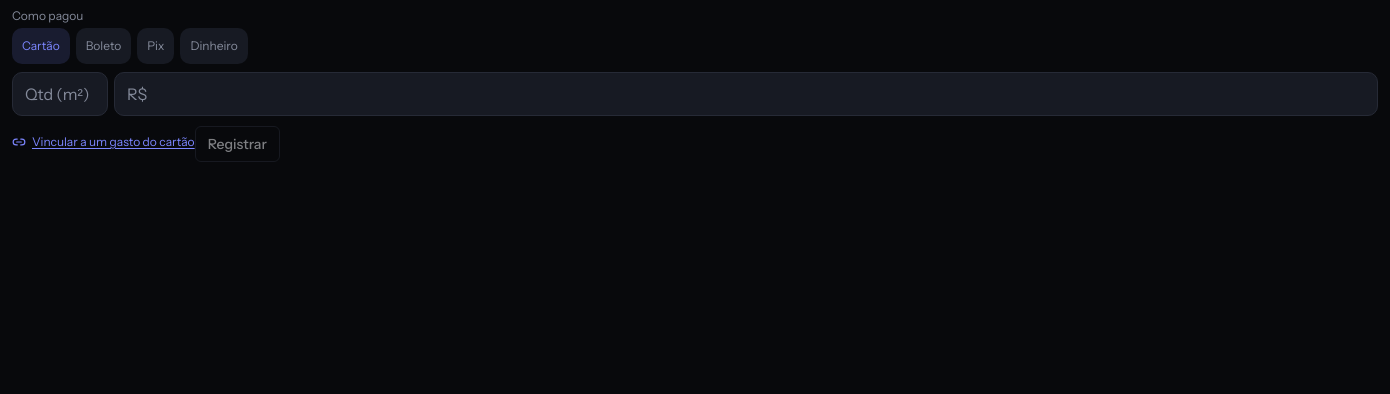
Test case: NovaCompra › mostra a diferença para o previsto antes de gravar
The width and height of the screenshot is (1390, 394).
Click the button "Vincular a um gasto do cartão" at (103, 142), box [12, 124, 195, 160]
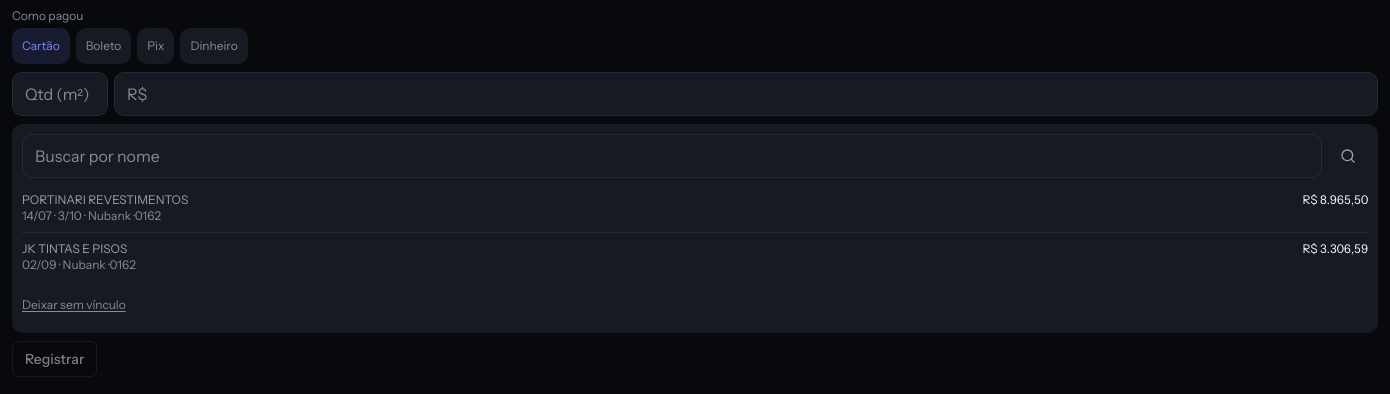
Check: the text "PORTINARI REVESTIMENTOS 14/07 · 3/10 · Nubank ·0162" is shown, box [22, 192, 188, 223]
Click the button that starts with "PORTINARI REVESTIMENTOS" at (105, 200), box [22, 184, 1368, 232]
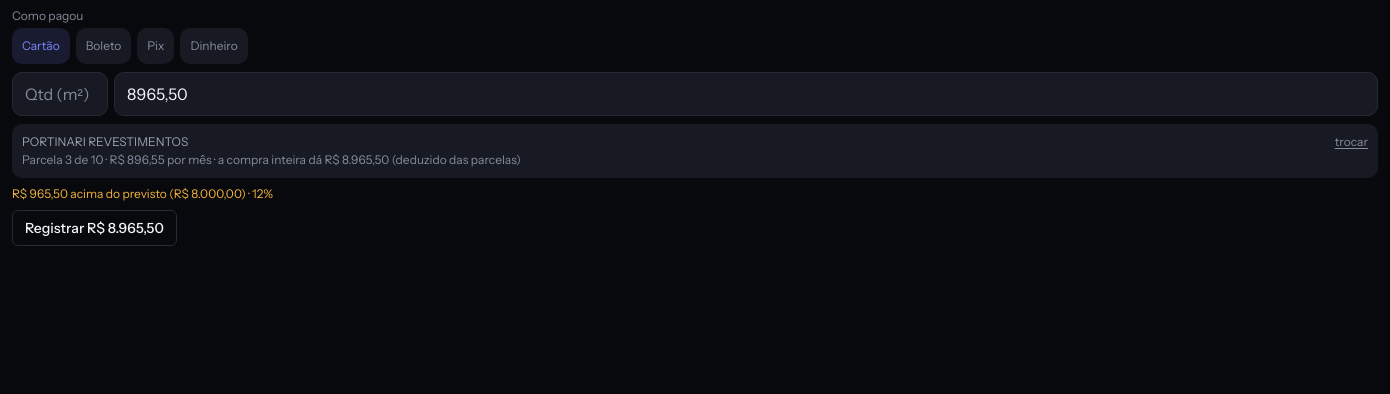
Check: the text "R$ 965,50 acima do previsto (R$ 8.000,00) · 12%" is shown, box [12, 186, 273, 201]
